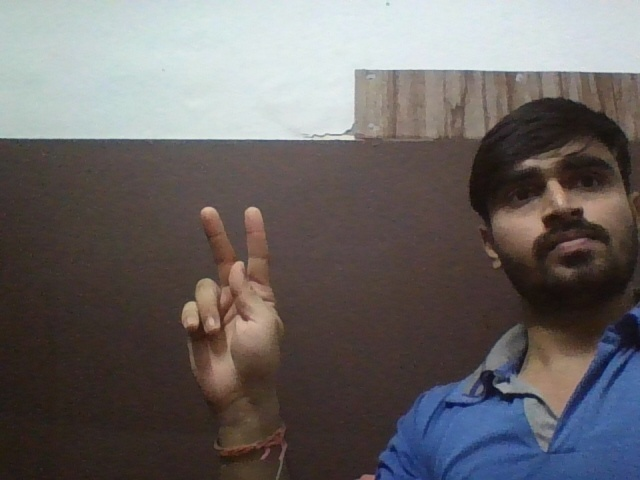K: (163, 200, 297, 401)
